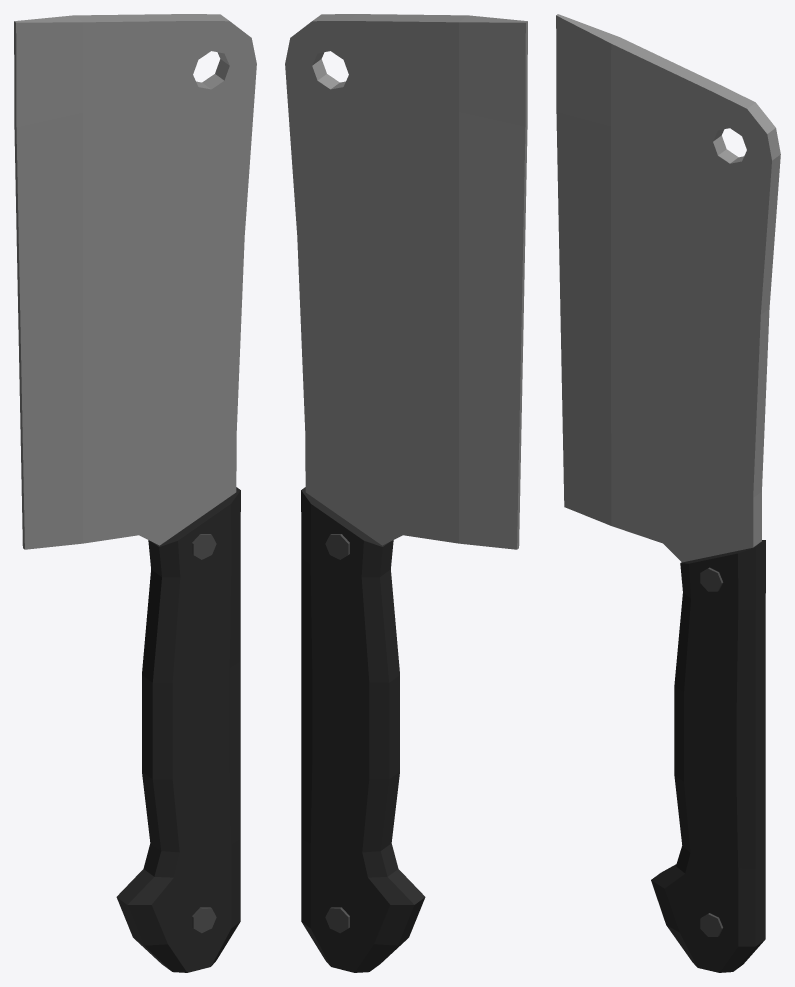
File: Cleaver.fbx
3 renders of one model, left to right at view 1: azimuth 30°, elevation 25°; view 2: azimuth 150°, elevation 25°; view 3: azimuth 330°, elevation 25°, orthographic. The views are drawn at different scales.
Parts seen in each view (by area): view 1: Cleaver; view 2: Cleaver; view 3: Cleaver.
Part boxes in pixels (box(x1,y1,x2,y2)): Cleaver: box(14, 14, 256, 972); Cleaver: box(285, 14, 527, 972); Cleaver: box(556, 14, 780, 972).
Bounding box in the file's own units: 225 × 893 × 38.63.
Materials: 1 (1 with a texture image).
